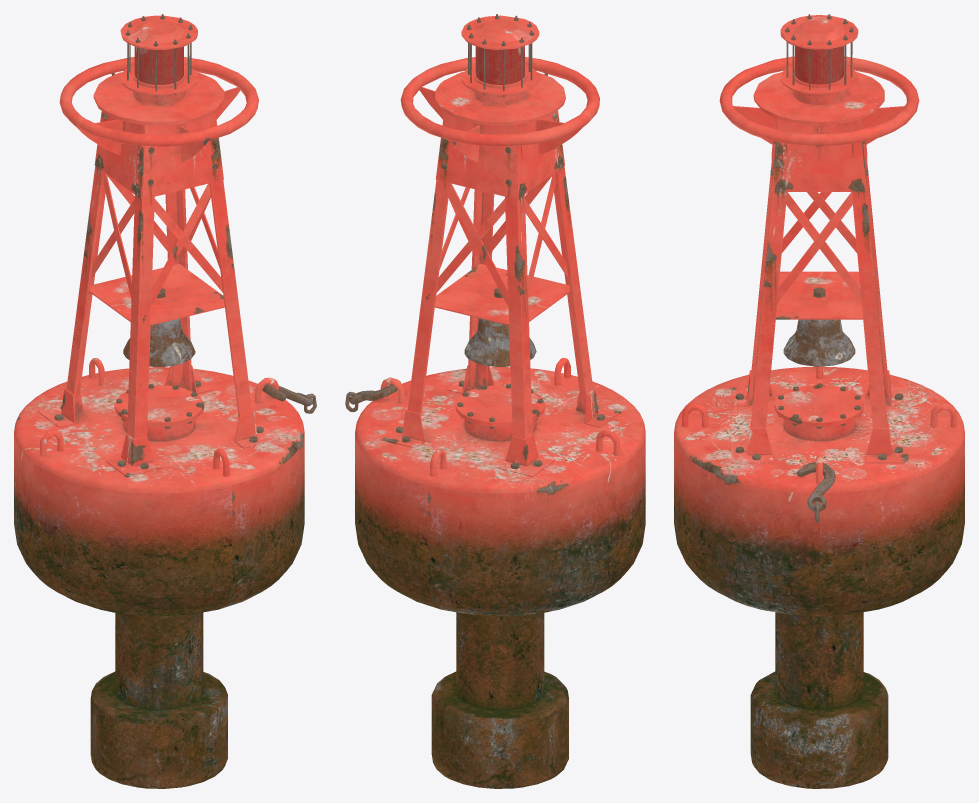
Rendered from ph_ocean_buoy_lod0.glb.
3 views of the same model, side by side, from view 1: azimuth 30°, elevation 25°; view 2: azimuth 150°, elevation 25°; view 3: azimuth 270°, elevation 25° (orthographic).
Parts seen in each view (by area): view 1: ocean_buoy; view 2: ocean_buoy; view 3: ocean_buoy.
Boxes of the visible parts, box(x1,y1,x2,y2) form: ocean_buoy: box(14, 14, 316, 788); ocean_buoy: box(345, 14, 645, 788); ocean_buoy: box(674, 14, 964, 788).
Size of the model in its own units: 1.07 by 2.66 by 0.9521.
1 material, 1 textured.
